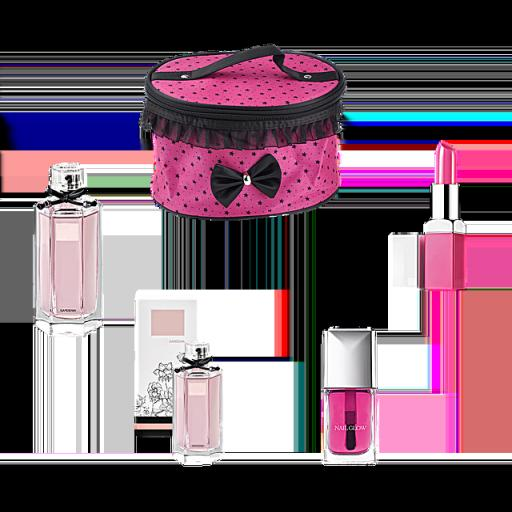lipstick: (424, 141, 466, 290)
